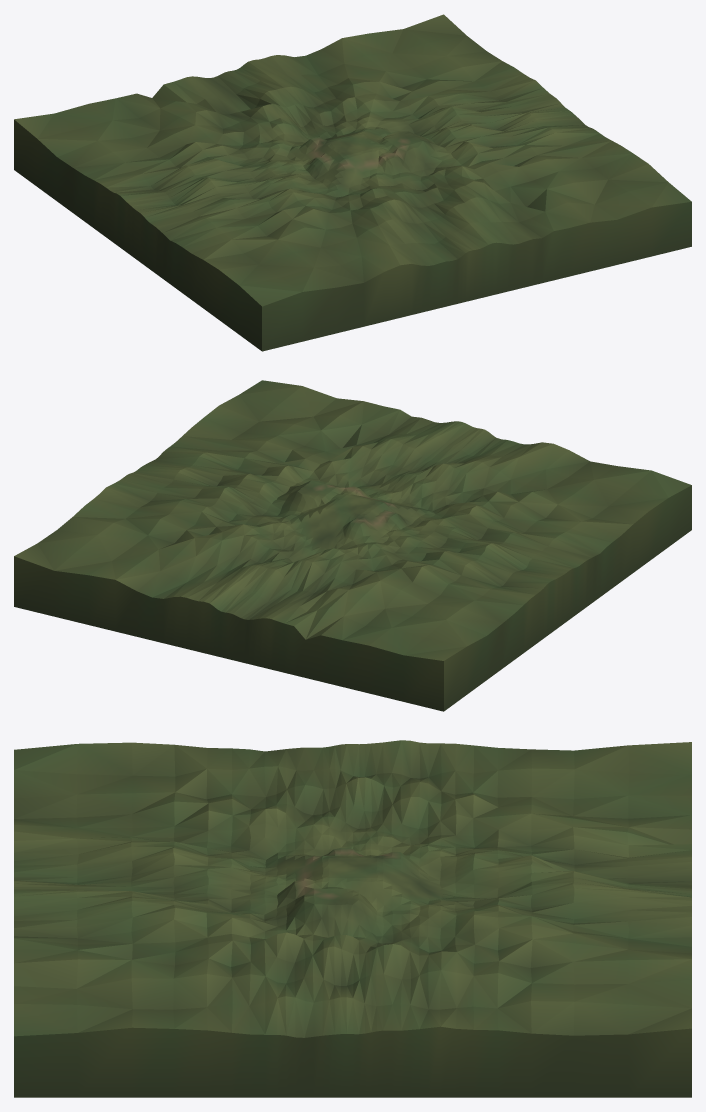
Rendered from heliostat-terrain.glb.
The picture shows the model from 3 angles, top to bottom: view 1: azimuth 30°, elevation 25°; view 2: azimuth 150°, elevation 25°; view 3: azimuth 270°, elevation 25°; orthographic projection. The views are drawn at different scales.
Visible parts, largest first — view 1: heliostat-terrain; view 2: heliostat-terrain; view 3: heliostat-terrain.
Boxes of the visible parts, x1,y1,x2,y2 form: heliostat-terrain: (14, 14, 691, 351); heliostat-terrain: (14, 380, 691, 711); heliostat-terrain: (14, 740, 691, 1097).
Bounding box in the file's own units: 224 × 31.89 × 224.
